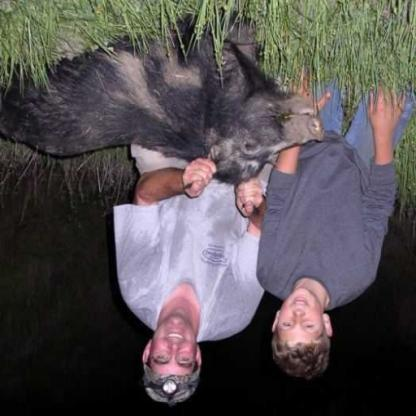boar: (14, 1, 333, 201)
